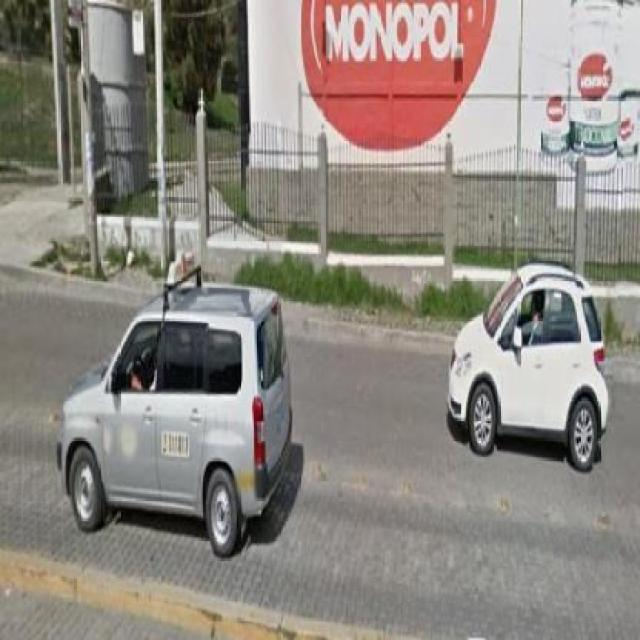car: (68, 277, 294, 558), (454, 265, 611, 491)
